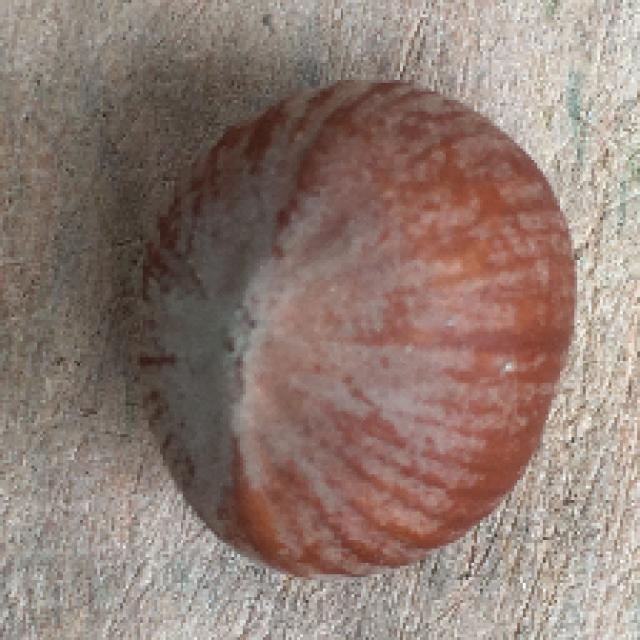qualityHazelnut: (130, 76, 584, 583)
